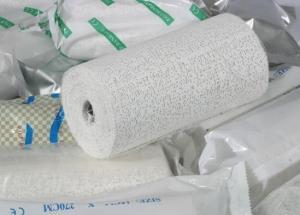bandage: (61, 12, 268, 159)
